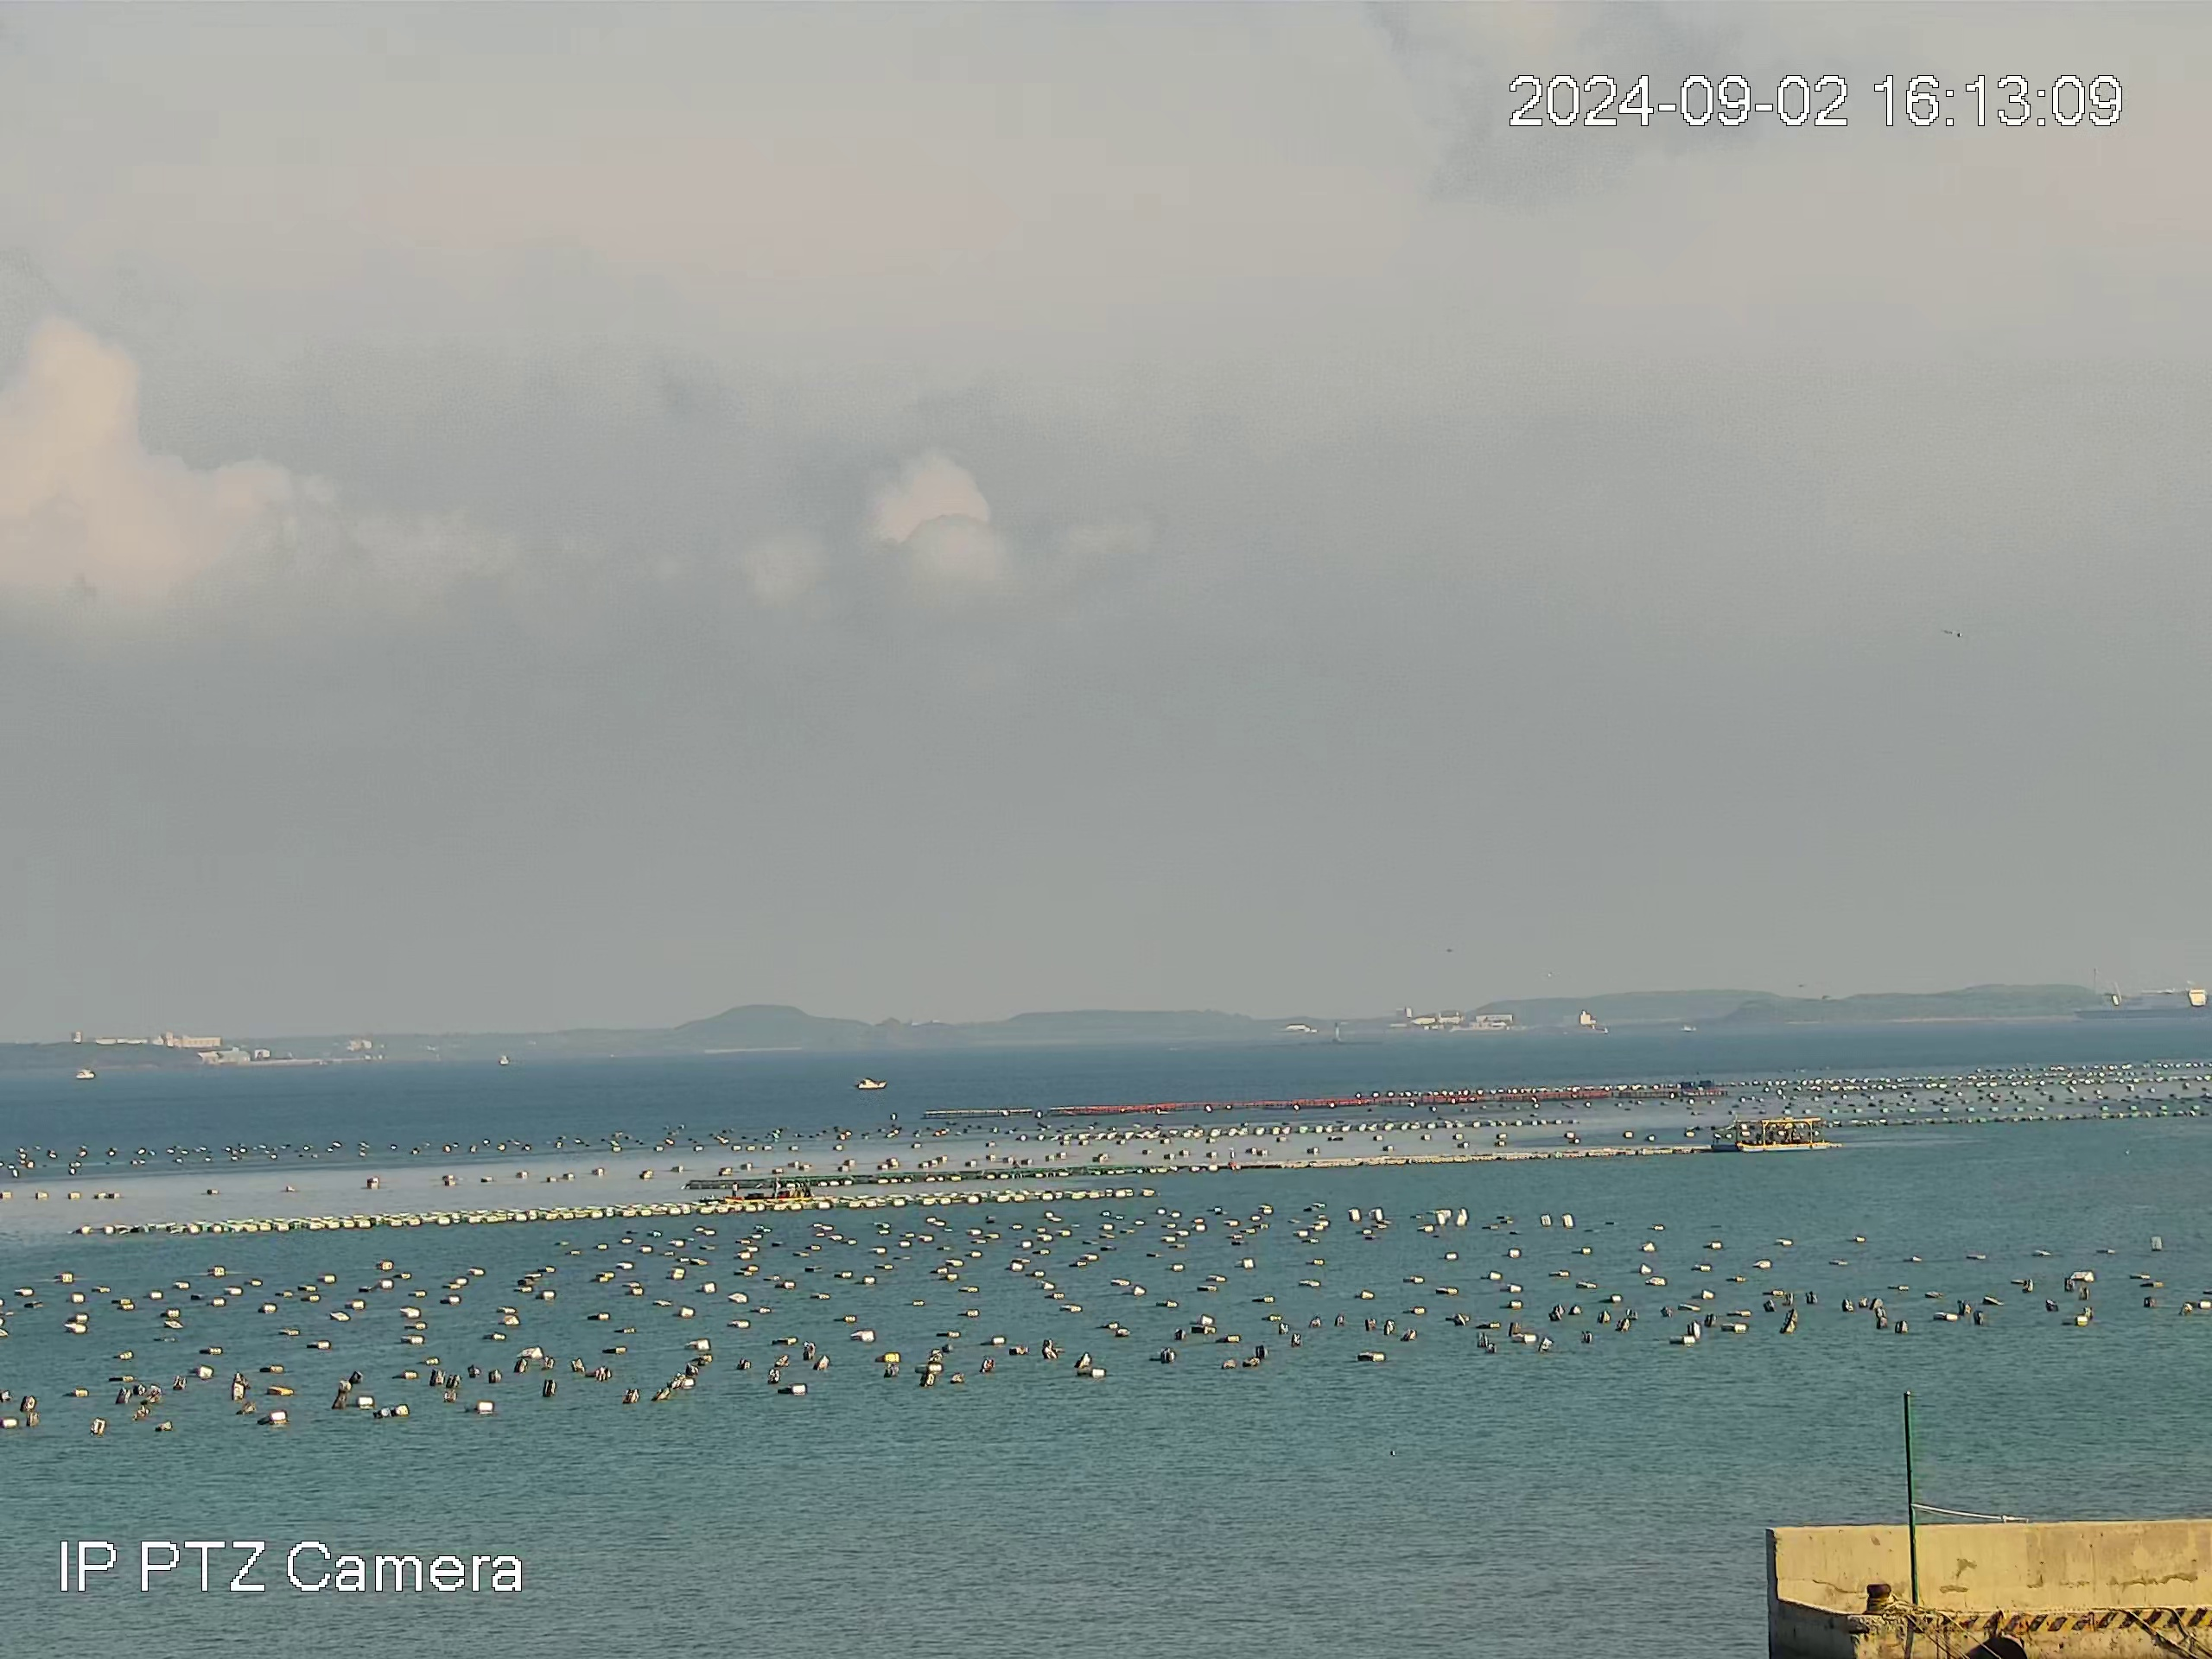boat: (2071, 986, 2209, 1021), (1735, 1117, 1832, 1154), (723, 1176, 815, 1204), (855, 1075, 888, 1089)
